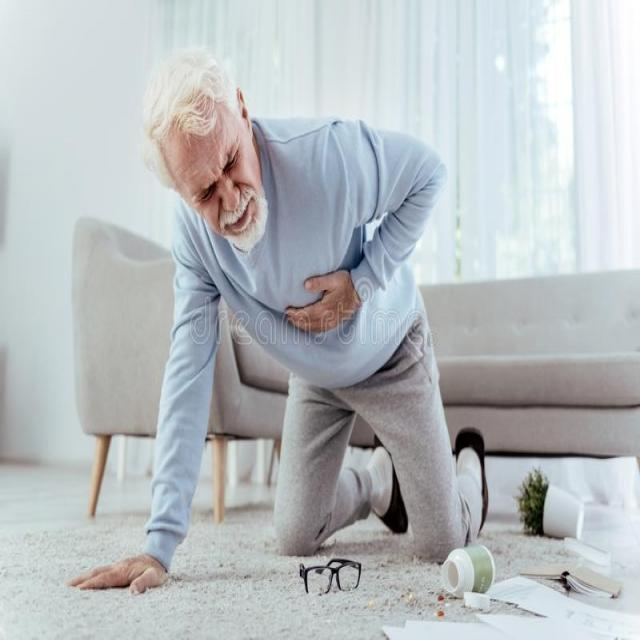fall: (66, 51, 486, 600)
